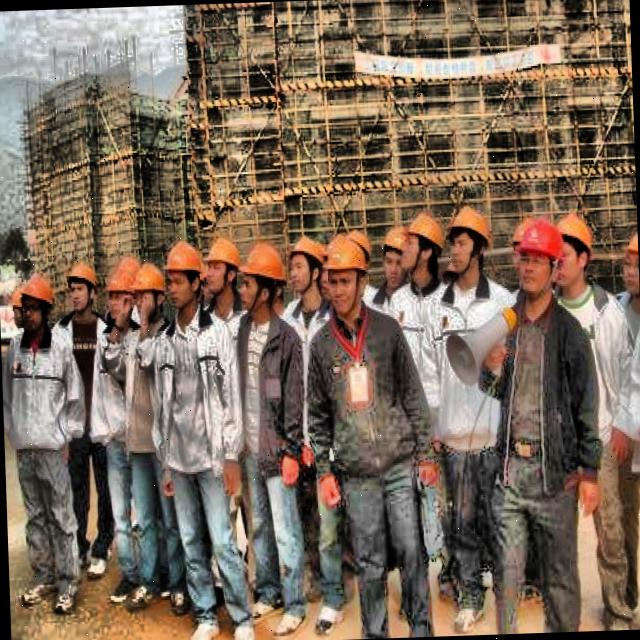helmet: (515, 220, 565, 301), (448, 200, 494, 284), (235, 242, 288, 312), (324, 233, 368, 317), (550, 213, 594, 290), (397, 211, 447, 278), (163, 237, 200, 311), (18, 268, 58, 336), (288, 230, 326, 300), (128, 261, 168, 324), (203, 233, 242, 294), (381, 222, 411, 288), (64, 258, 99, 314), (102, 268, 134, 323), (509, 216, 536, 280), (620, 230, 638, 298), (7, 277, 27, 330)
